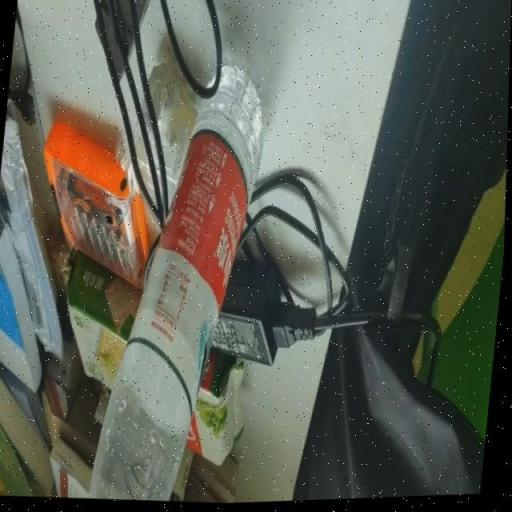plastic: (92, 69, 262, 501)
